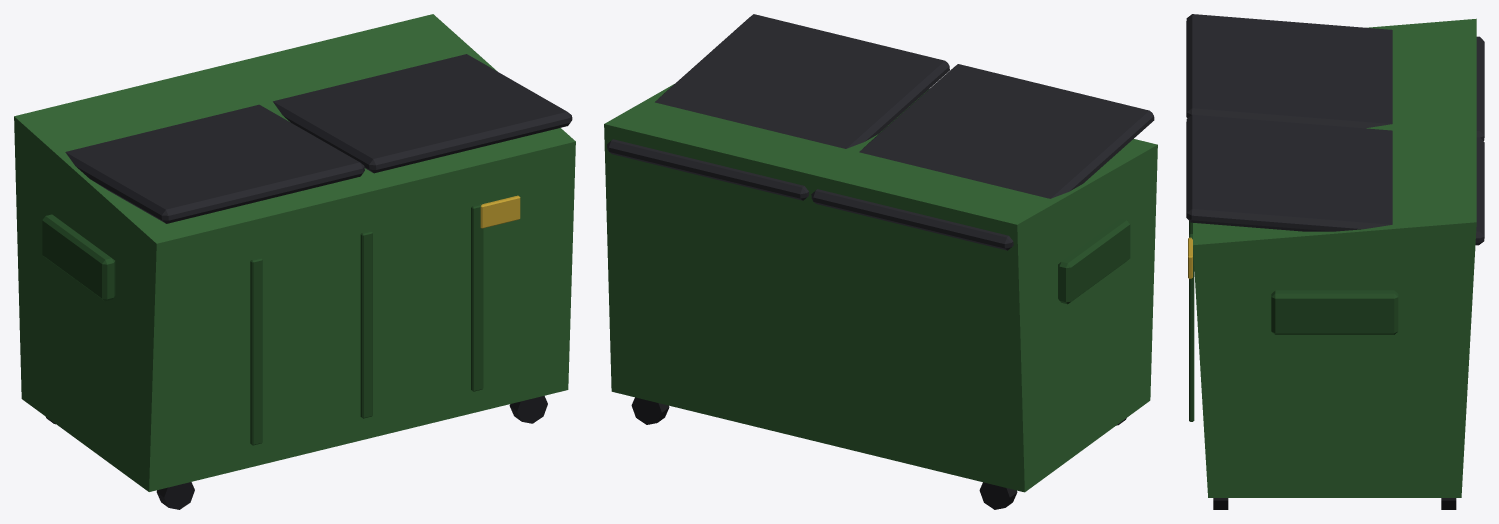
File: dumpster.glb
3 renders of one model, left to right at view 1: azimuth 30°, elevation 25°; view 2: azimuth 150°, elevation 25°; view 3: azimuth 270°, elevation 25°, orthographic.
Parts seen in each view (by area): view 1: dumpster; view 2: dumpster; view 3: dumpster.
Part boxes in pixels (x1,y1,x2,y2): dumpster: [14, 14, 575, 509]; dumpster: [604, 14, 1157, 509]; dumpster: [1186, 14, 1484, 509].
Bounding box in the file's own units: 2.02 × 1.36 × 1.18.
